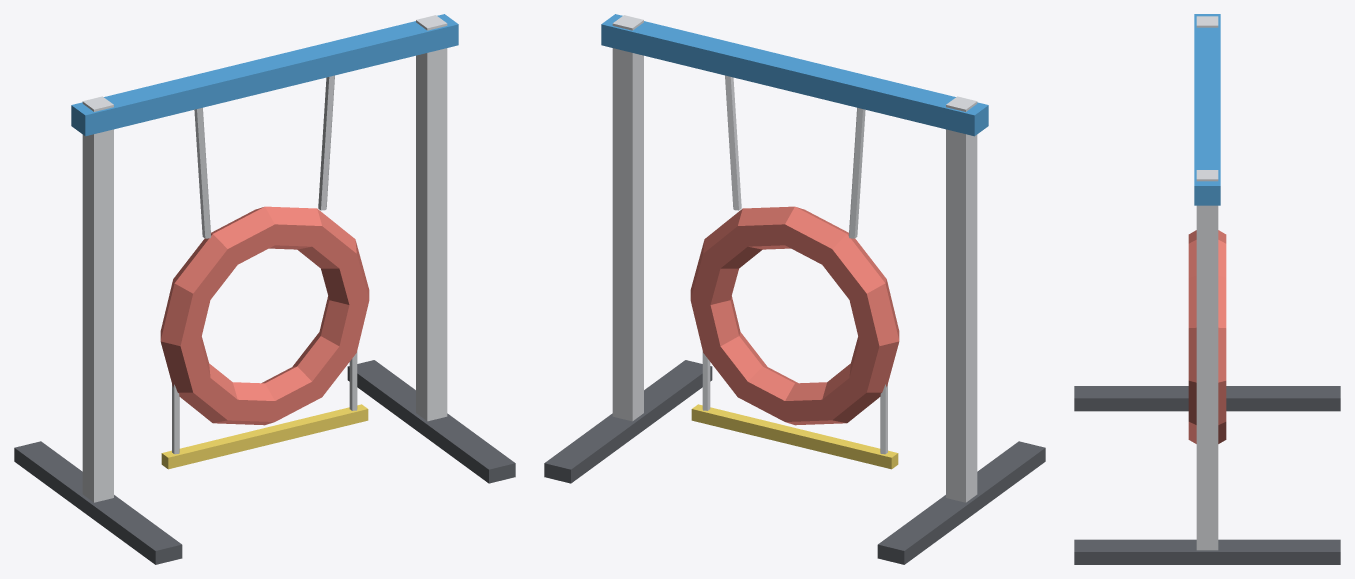
File: dog-agility-and-training-field-tyre-jump-d6713e22__35579.glb
3 views of the same model, side by side, from view 1: azimuth 30°, elevation 25°; view 2: azimuth 150°, elevation 25°; view 3: azimuth 270°, elevation 25° (orthographic). The views are drawn at different scales.
Parts seen in each view (by area): view 1: tyre-jump-steel, tyre/poppy, tyre-jump-azure, tyre-jump-charcoal, tyre/sunflower, tyre/steel; view 2: tyre-jump-steel, tyre/poppy, tyre-jump-azure, tyre-jump-charcoal, tyre/sunflower, tyre/steel; view 3: tyre-jump-charcoal, tyre-jump-steel, tyre-jump-azure, tyre/poppy.
Part boxes in pixels (<box>): tyre-jump-steel: <box>82,15,447,502</box>; tyre/poppy: <box>160,206,369,425</box>; tyre-jump-azure: <box>71,14,458,136</box>; tyre-jump-charcoal: <box>14,360,515,564</box>; tyre/sunflower: <box>161,404,368,469</box>; tyre/steel: <box>172,75,357,454</box>; tyre-jump-steel: <box>612,15,977,502</box>; tyre/poppy: <box>690,206,899,425</box>; tyre-jump-azure: <box>601,14,988,136</box>; tyre-jump-charcoal: <box>544,360,1045,564</box>; tyre/sunflower: <box>691,404,898,469</box>; tyre/steel: <box>702,75,887,454</box>; tyre-jump-charcoal: <box>1074,386,1340,564</box>; tyre-jump-steel: <box>1196,16,1218,550</box>; tyre-jump-azure: <box>1194,14,1220,205</box>; tyre/poppy: <box>1188,230,1226,443</box>.
Bounding box in the file's own units: 1.68 × 1.75 × 1.1.
